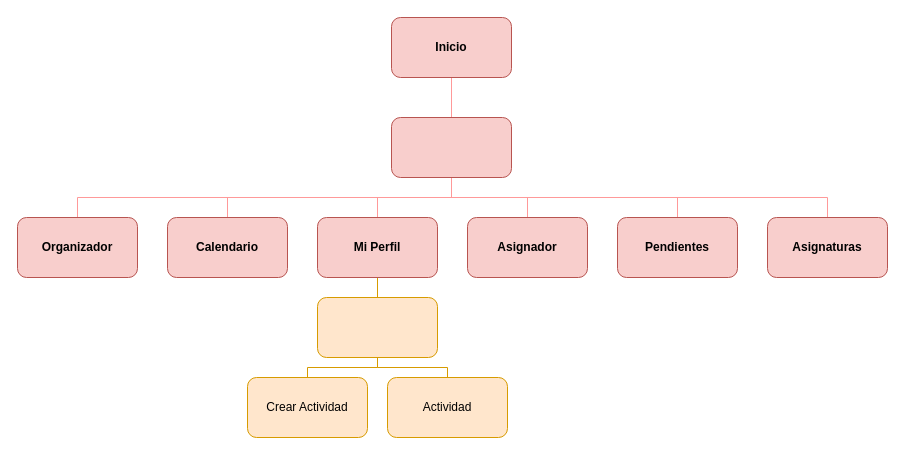
Image size: 905x455. Some labels were removed from this diagram. The shapes that lost their labels are listed below. From the top down, each one's centre as x and y in pixels, then its label:
At point (451, 147): "Página Principal".
At point (377, 327): "Asignatura".
